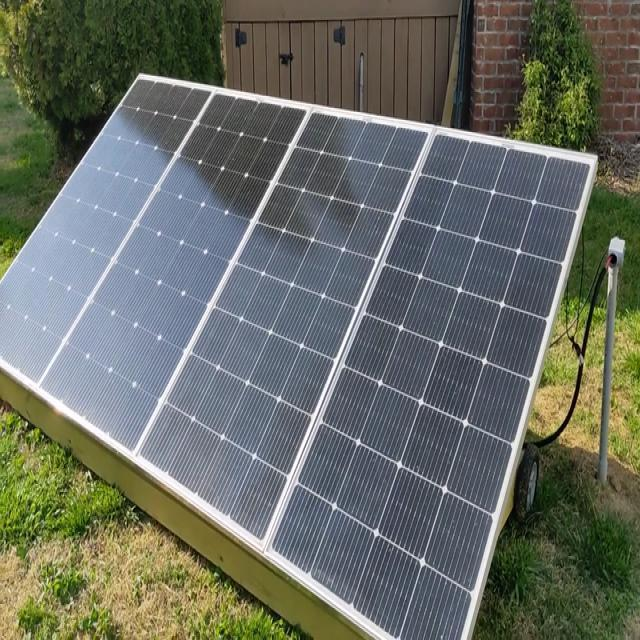Normal Solar Panel: (0, 74, 596, 640)
